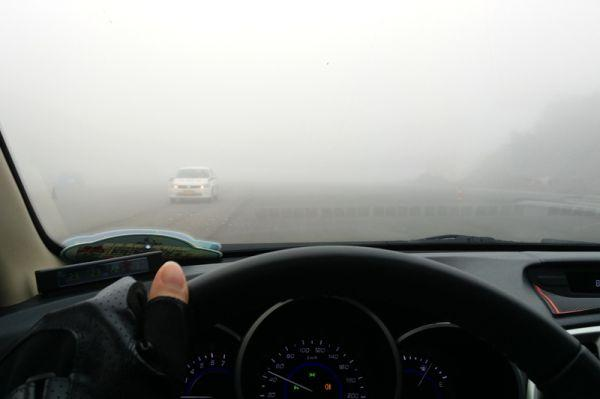car: (166, 166, 219, 204)
